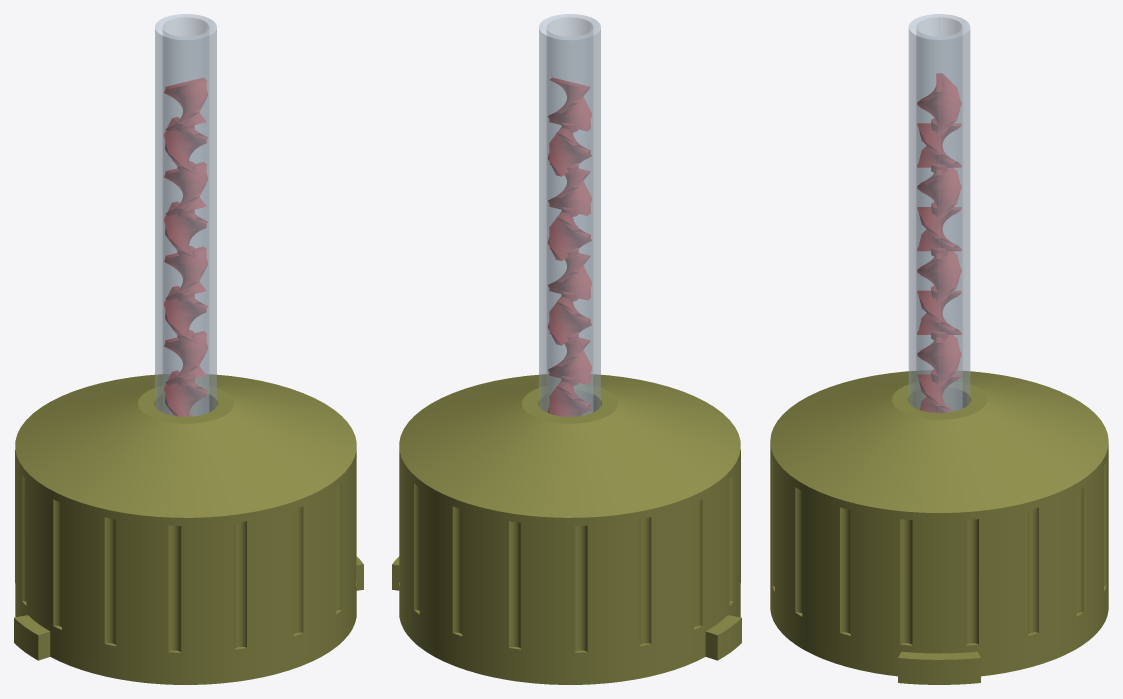
The model's file is helical_mixer_cap.glb.
3 renders of one model, left to right at view 1: azimuth 30°, elevation 25°; view 2: azimuth 150°, elevation 25°; view 3: azimuth 270°, elevation 25°, orthographic.
Parts seen in each view (by area): view 1: _glb_mixer (×3); view 2: _glb_mixer (×3); view 3: _glb_mixer (×3).
Part boxes in pixels (left/top/right/bottom): _glb_mixer (×3): left=14, top=14, right=363, bottom=684; _glb_mixer (×3): left=392, top=14, right=741, bottom=684; _glb_mixer (×3): left=770, top=14, right=1108, bottom=684.
Bounding box in the file's own units: 0.024 × 0.0416 × 0.022.
